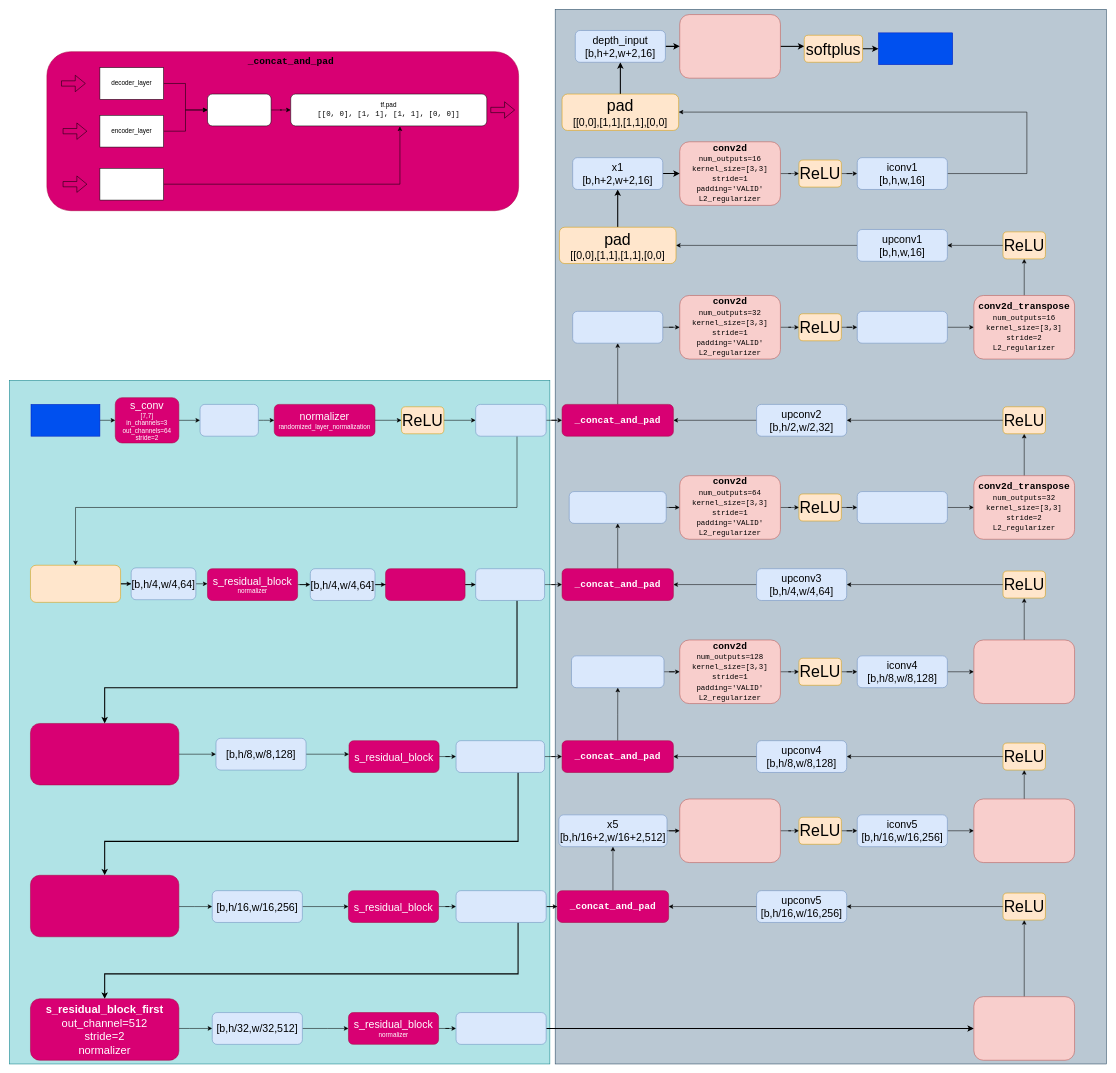
This 1116x1073 diagram has some shape labels left out. Each missing label, with the centre of its shape:
conv2d num_outputs=1 kernel_size=[3,3] stride=1 padding='VALID' L2_regularizer?: the point at 729,46
conv2d num_outputs=256 kernel_size=[3,3] stride=1 padding='VALID' L2_regularizer: the point at 729,830
conv2d_transpose num_outputs=128 kernel_size=[3,3] stride=2 L2_regularizer: the point at 1024,830
conv2d_transpose num_outputs=256 kernel_size=[3,3] stride=2 L2_regularizer: the point at 1024,1028
conv2d_transpose num_outputs=64 kernel_size=[3,3] stride=2 L2_regularizer: the point at 1024,671
econv1 [b,h/2,w/2,64]: the point at 510,420
econv2 [b,h/4,w/4,64]: the point at 510,584
econv3 [b,h/8,w/8,128]: the point at 500,756
econv4 [b,h/16,w/16,256]: the point at 501,906
econv5 [b,h/32,w/32,512]: the point at 501,1028
ft.concat axis=3: the point at 239,110
iconv2 [b,h/2,w/2,32]: the point at 902,327
iconv3 [b,h/4,w/4,64]: the point at 902,507
max_pool kernal_size=[1,3,3,1] strides=[1,2,2,1] pading=SAME: the point at 75,583
output [b,h,w,1]: the point at 915,48
padding_mode: the point at 131,184
s_conv_out [b,h/2,w/2,64]: the point at 229,420
s_residual_block batch_normalize: the point at 425,584
s_residual_block_first out_channel=128 stride=2 normalizer: the point at 104,754
s_residual_block_first out_channel=256 stride=2 normalizer: the point at 104,906
target_image [b,h,w,3]: the point at 65,420
x2 [b,h/2+2,w/2+2,96]: the point at 617,327
x3 [b,h/4+2,w/4+2,128]: the point at 617,507
x4 [b,h/8+2,w/8+2,256]: the point at 617,671
